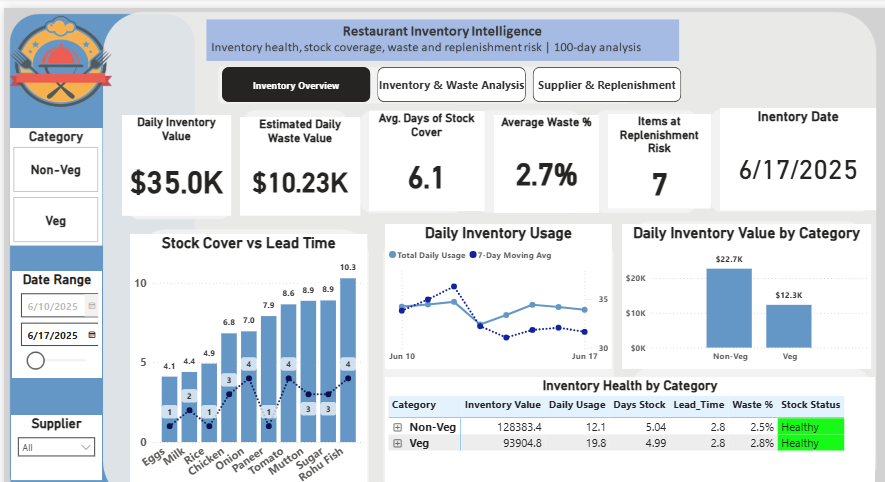

What the dashboard file says about the page in this screenshot:
{"tool":"powerbi","page":{"name":"Inventory Overview","canvas":[1280,720],"ordinal":0},"visuals":[{"type":"card","title":"Daily Inventory Value","fields":{"Values":["_Measure.Current Inventory Value"]},"box":[169,152.8,155.8,144],"z":0},{"type":"card","title":"Items at Replenishment Risk","fields":{"Values":["_Measure.Items With Stock Coverage Risk"]},"box":[863.3,151.7,146.7,135],"z":1000},{"type":"card","title":"Avg. Days of Stock Cover","fields":{"Values":["_Measure.Days of Stock Cover02"]},"box":[520.7,147.8,164.6,142.8],"z":2000},{"type":"card","title":"Average Waste %","fields":{"Values":["_Measure.Average Waste02 %"]},"box":[700,153.3,150,140],"z":3000},{"type":"card","title":"Estimated Daily Waste Value","fields":{"Values":["_Measure.Latest Day Waste Value"]},"box":[336.5,155.8,171.9,141.1],"z":4000},{"type":"advancedSlicerVisual","title":"Category","fields":{"Values":["Fact_Inventory.Category"]},"box":[8.3,171.7,131.7,168.3],"z":5000},{"type":"slicer","title":"Supplier","fields":{"Values":["Fact_Inventory.Supplier_Name"]},"box":[10,581.7,130,93.3],"z":6000},{"type":"clusteredColumnChart","title":"Daily Inventory Value by Category","fields":{"Category":["Fact_Inventory.Category"],"Y":["_Measure.Current Inventory Value"]},"box":[883.6,309.1,356.1,206.6],"z":7000},{"type":"lineClusteredColumnComboChart","title":"Stock Cover vs Lead Time","fields":{"Category":["Fact_Inventory.Item_Name"],"Y":["_Measure.Average Days of Stock Cover"],"Y2":["_Measure.Latest Lead Time"]},"box":[179.7,322.5,339.3,376.3],"z":8000},{"type":"lineChart","title":"Daily Inventory Usage","fields":{"Y":["_Measure.Total Daily Usage"],"Category":["Dim_Date.Date"],"Y2":["_Measure.7-Day Moving Avg"]},"box":[544.3,309.1,324.2,206.6],"z":9000},{"type":"card","title":"Inentory Date","fields":{"Values":["_Measure.Latest Inventory Date"]},"box":[1023,142.8,223.4,146.1],"z":10000},{"type":"pageNavigator","box":[310.8,84,658.5,50.4],"z":11000},{"type":"pivotTable","title":"Inventory Health by Category","fields":{"Rows":["Fact_Inventory.Category","Fact_Inventory.Subcategory"],"Values":["_Measure.Inventory Value","_Measure.Average Daily Usage","_Measure.Days of Stock Cover","Avg(Fact_Inventory.Lead_Time)","_Measure.Average Waste %","_Measure.Inventory Risk"]},"box":[544.3,527.5,700.5,178.1],"z":12000},{"type":"slicer","title":"Date Range","fields":{"Values":["Dim_Date.Date"]},"box":[11.7,375,128.3,151.7],"z":13000}]}

Visuals, with their boxes on the page's 1280x720 design canvas (x1, y1, x2, y2). These are canvas units, not pixel positions in the 885x482 screenshot, which may show the page scaled, cropped or inside an application window:
"Daily Inventory Value" card: (169,153,325,297)
"Items at Replenishment Risk" card: (863,152,1010,287)
"Avg. Days of Stock Cover" card: (521,148,685,291)
"Average Waste %" card: (700,153,850,293)
"Estimated Daily Waste Value" card: (336,156,508,297)
"Category" advancedSlicerVisual: (8,172,140,340)
"Supplier" slicer: (10,582,140,675)
"Daily Inventory Value by Category" clusteredColumnChart: (884,309,1240,516)
"Stock Cover vs Lead Time" lineClusteredColumnComboChart: (180,322,519,699)
"Daily Inventory Usage" lineChart: (544,309,868,516)
"Inentory Date" card: (1023,143,1246,289)
pageNavigator: (311,84,969,134)
"Inventory Health by Category" pivotTable: (544,528,1245,706)
"Date Range" slicer: (12,375,140,527)
